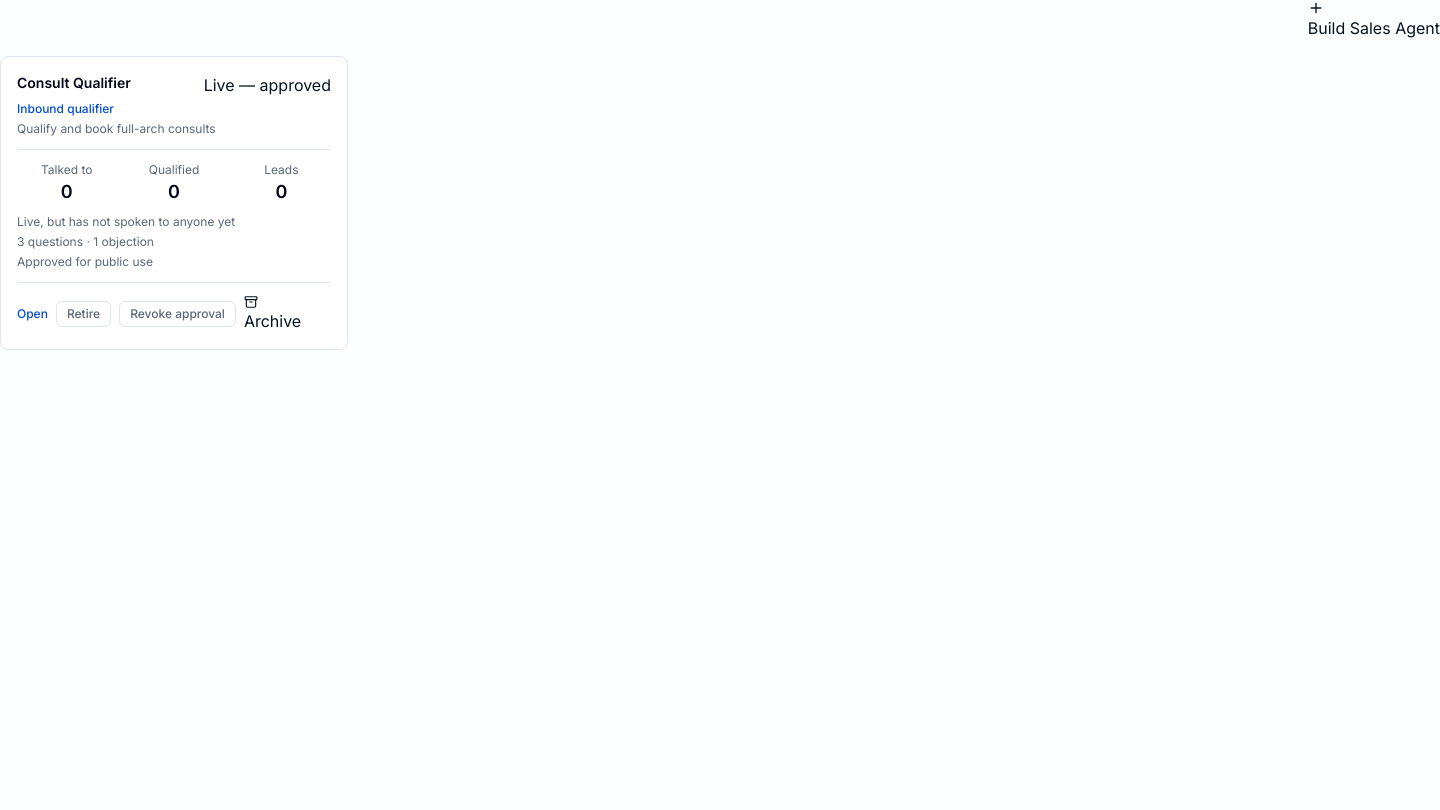
Test: revoking approval › clears the signature after confirm and does not write status
Click the button "Revoke approval" at (178, 314), box [119,301,236,327]
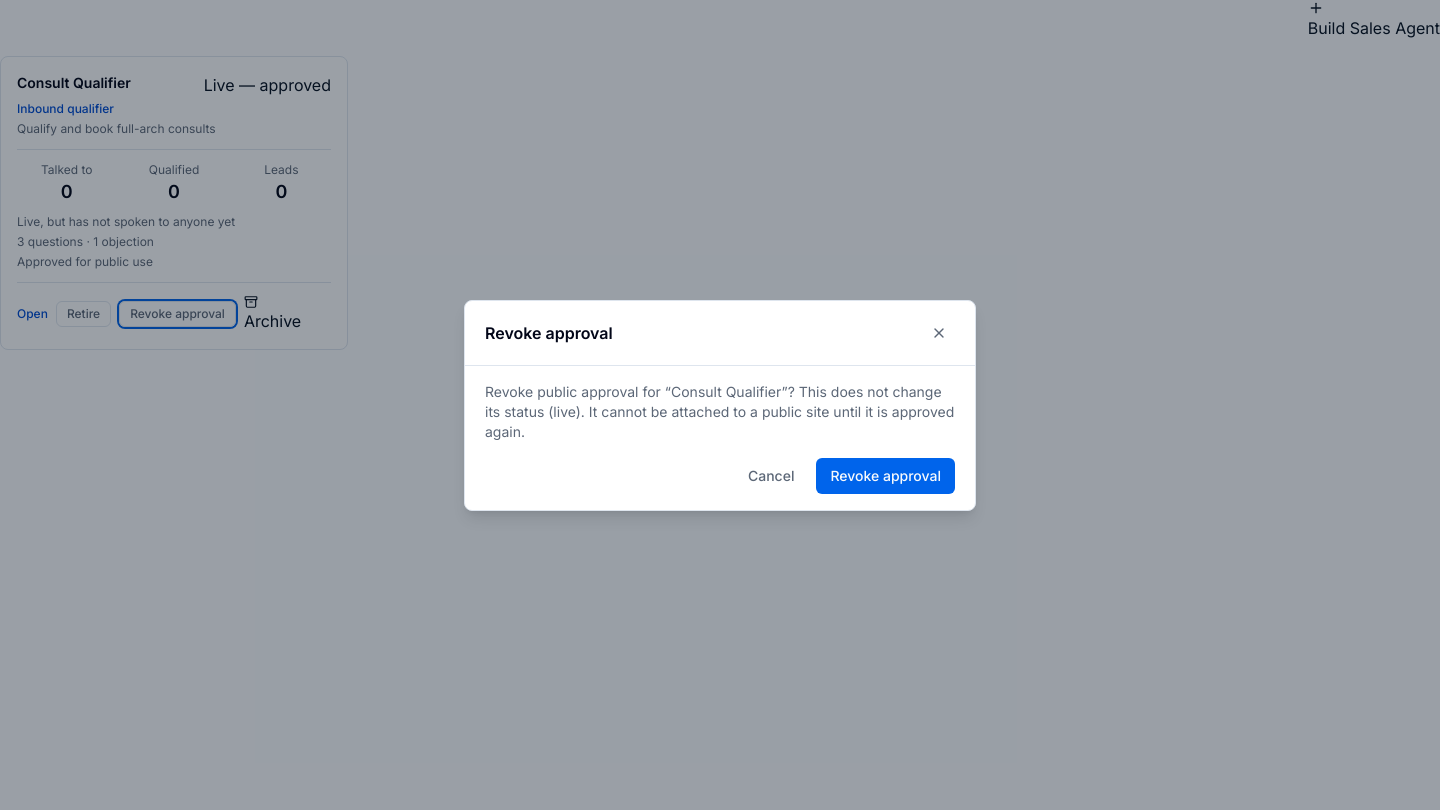
expect the dialog "Revoke approval" shows "does not change its status (live)": met, box [485,382,954,440]
Click the button "Revoke approval" at (886, 476), box [816,458,955,494]
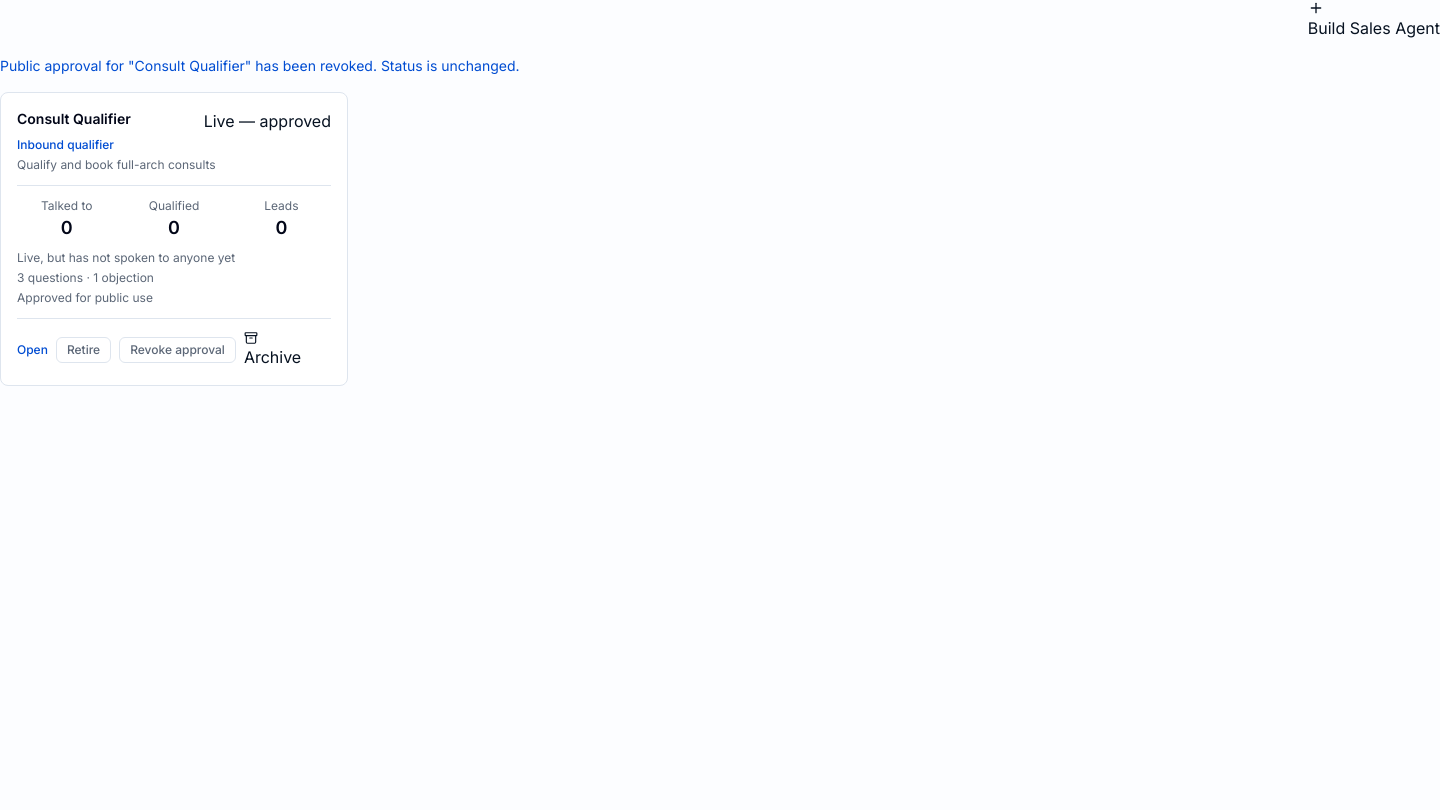
expect the text "Public approval for \"Consult Qualifier\" has been revoked. Status is unchanged." is shown: met, box [0,57,520,74]
